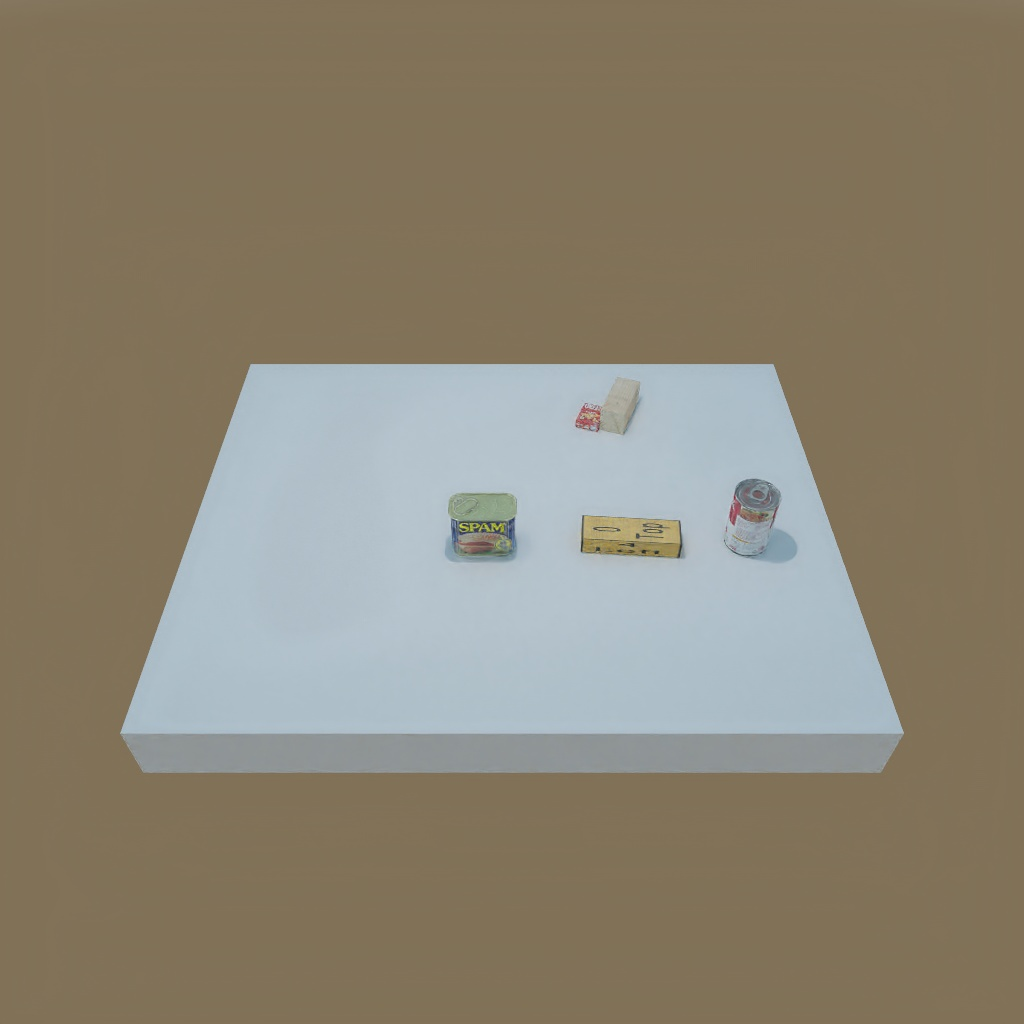jenga: (576, 509, 684, 567)
potted_meat_can: (446, 489, 521, 559)
tomato_soup_can: (725, 475, 776, 557)
wood_block: (600, 374, 643, 435)
